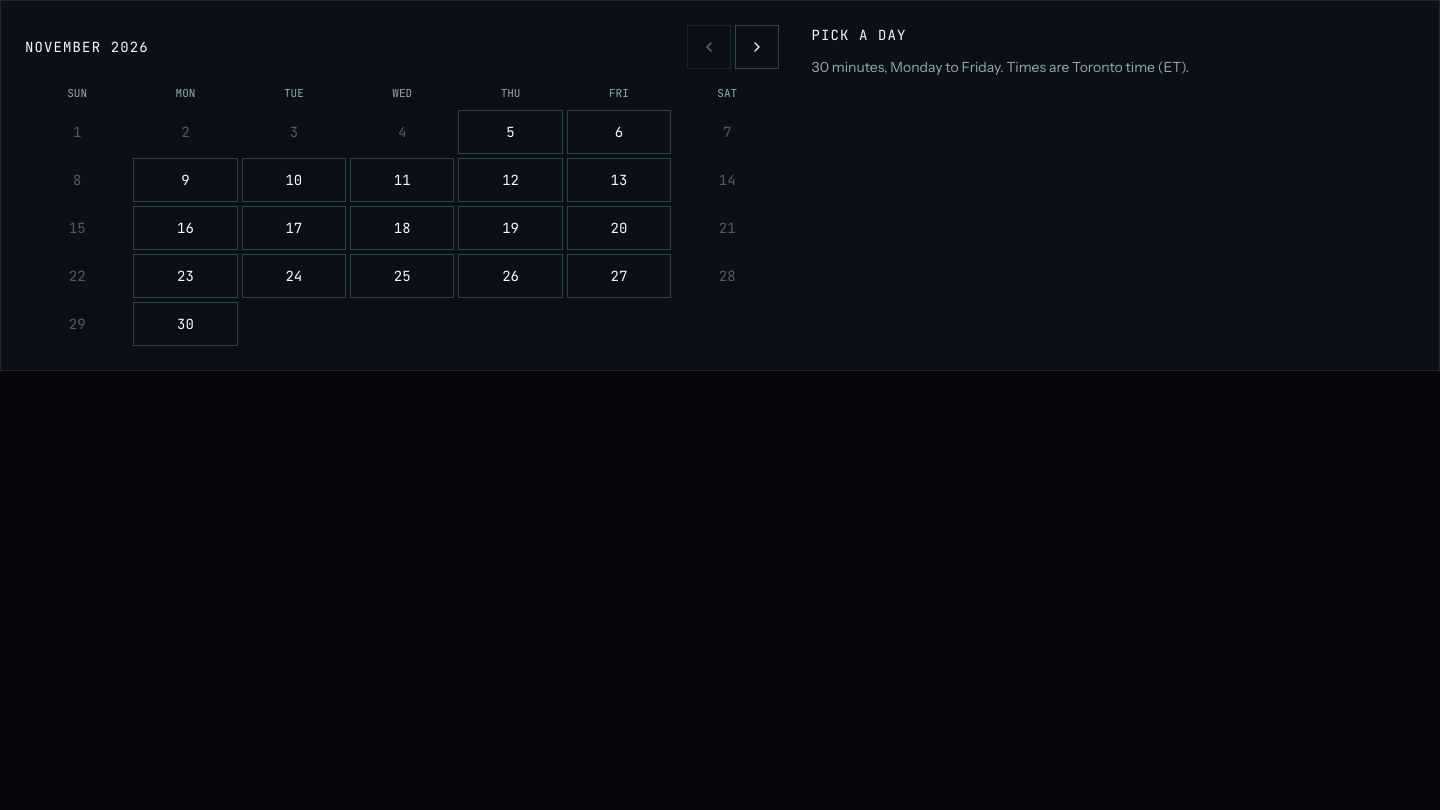
Test: MeetingPicker › clears the time when the day changes
Step 1. Click the button named "Thursday, November 5" → (511, 132), box [458, 110, 563, 154]
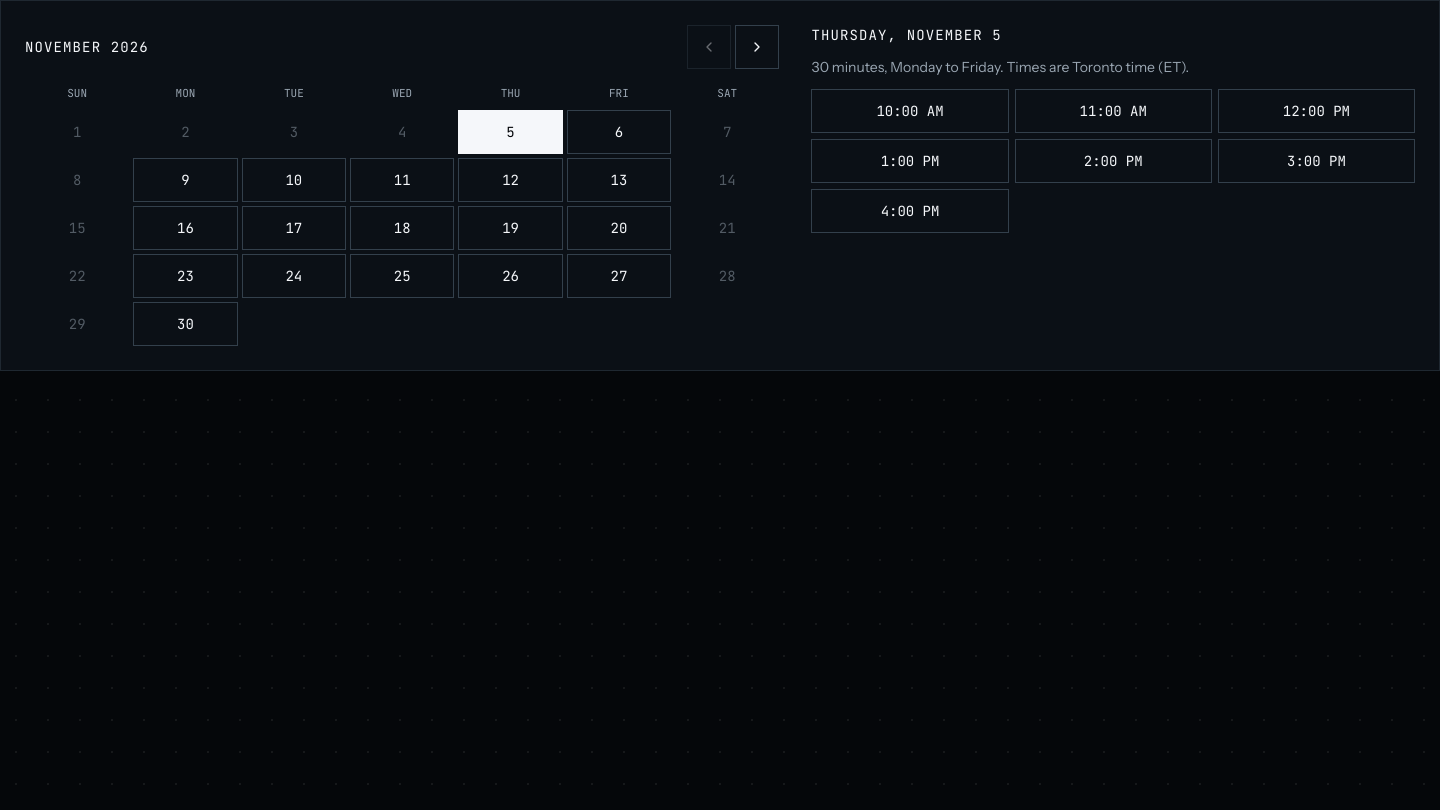
Step 2. Click the button "2:00 PM" → (1113, 161), box [1015, 139, 1212, 183]
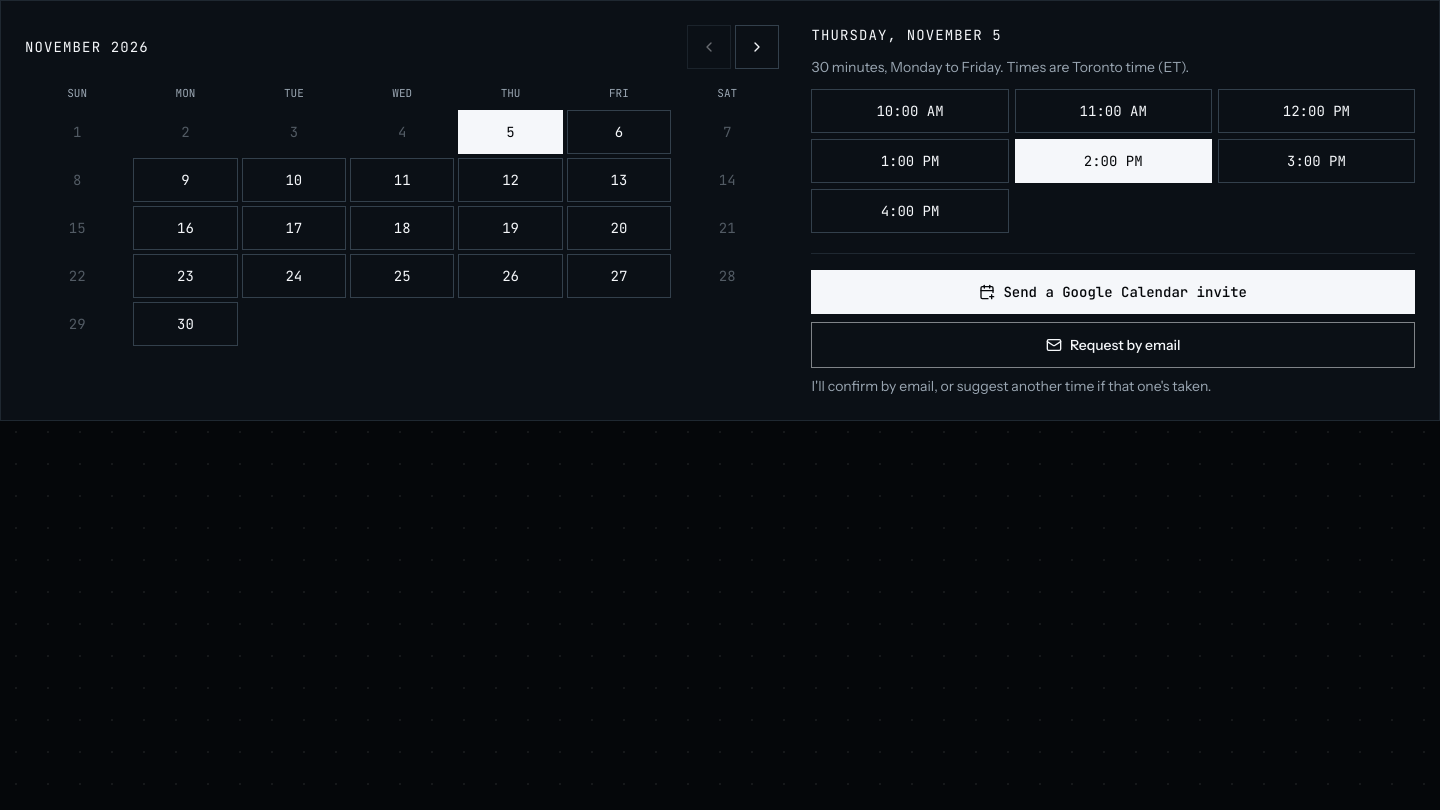
Step 3. Click the button named "Friday, November 6" → (619, 132), box [567, 110, 671, 154]
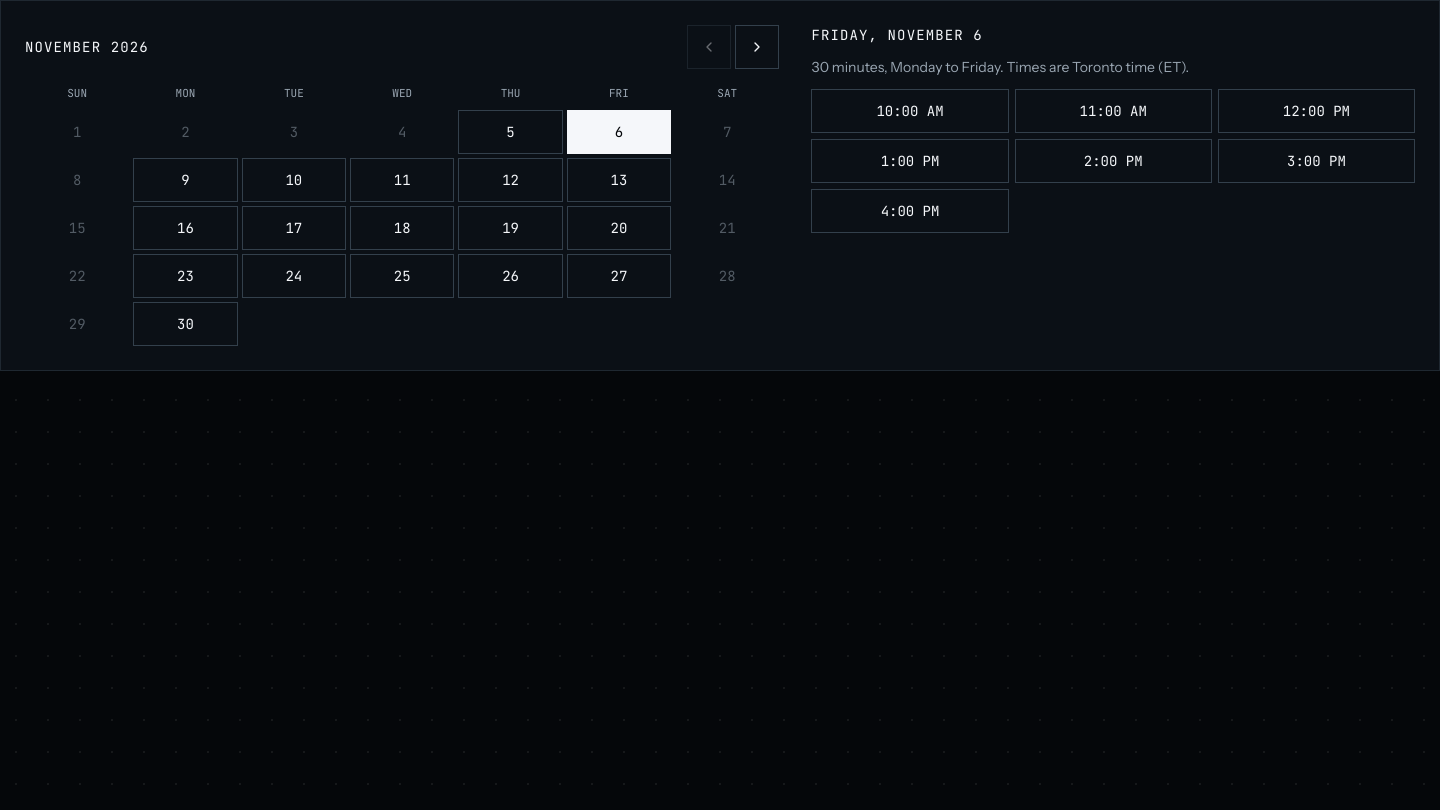
Check: the link "Google Calendar" is gone
